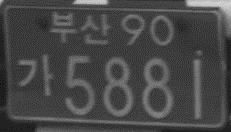0: (149, 14, 175, 46)
1: (186, 56, 207, 121)
5: (63, 53, 96, 116)
8: (140, 57, 175, 120), (101, 54, 134, 119)
9: (120, 12, 146, 47)
가: (16, 53, 56, 98)
부산_O: (49, 10, 112, 47)
